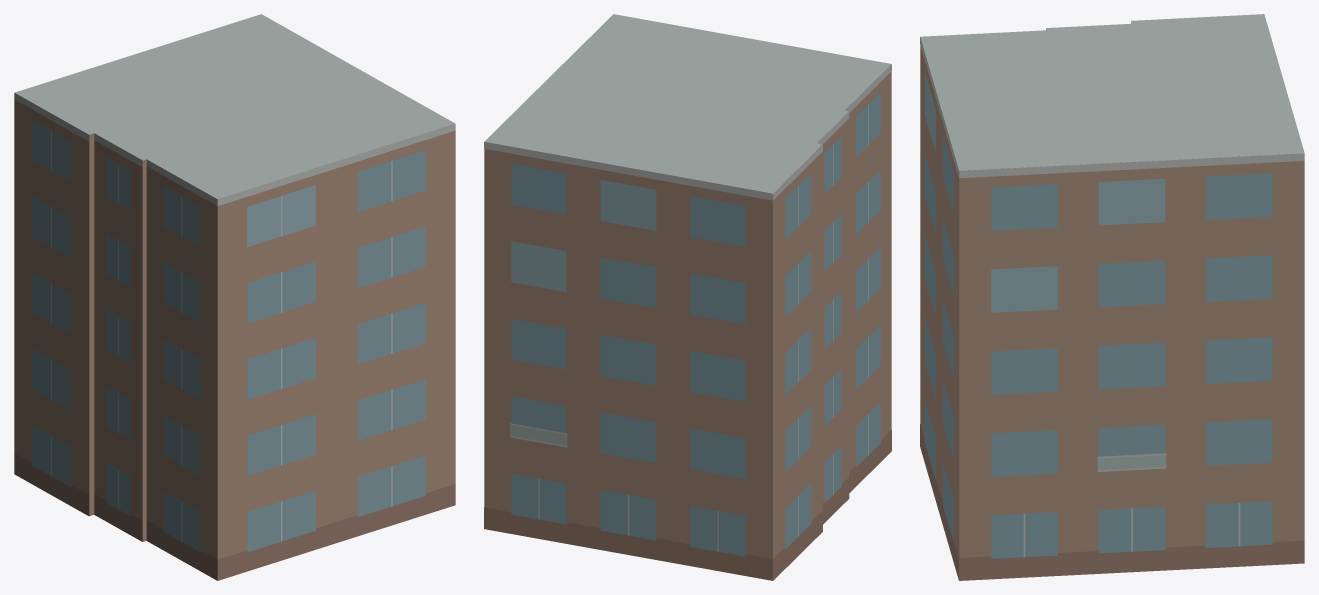
Rendered from survey-upis-32652198.glb.
3 renders of one model, left to right at view 1: azimuth 30°, elevation 25°; view 2: azimuth 150°, elevation 25°; view 3: azimuth 270°, elevation 25°, orthographic. The views are drawn at different scales.
Visible parts, largest first — view 1: survey-upis-32652198.tmp; view 2: survey-upis-32652198.tmp; view 3: survey-upis-32652198.tmp.
Boxes of the visible parts, x1=… form: survey-upis-32652198.tmp: x1=14, y1=14, x2=455, y2=580; survey-upis-32652198.tmp: x1=484, y1=14, x2=891, y2=580; survey-upis-32652198.tmp: x1=920, y1=14, x2=1304, y2=580.
Bounding box in the file's own units: 11.09 × 13.5 × 11.49.
